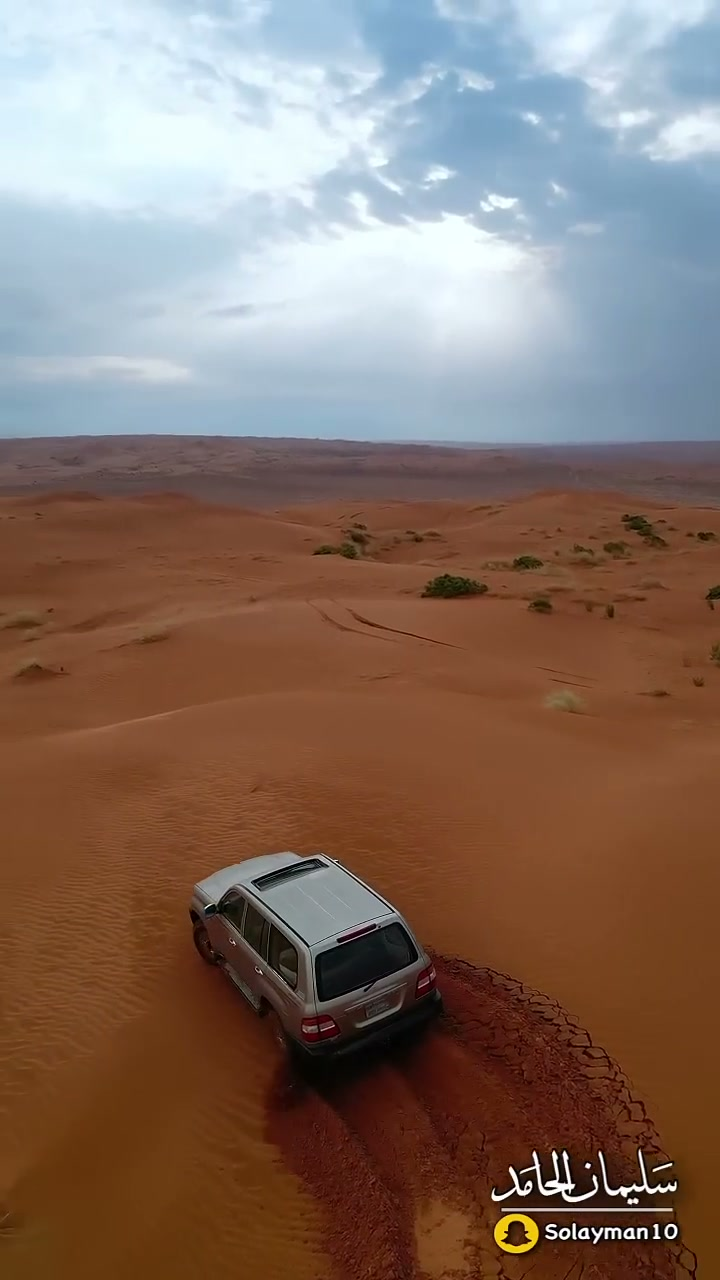vehicle_track: (267, 957, 695, 1279)
